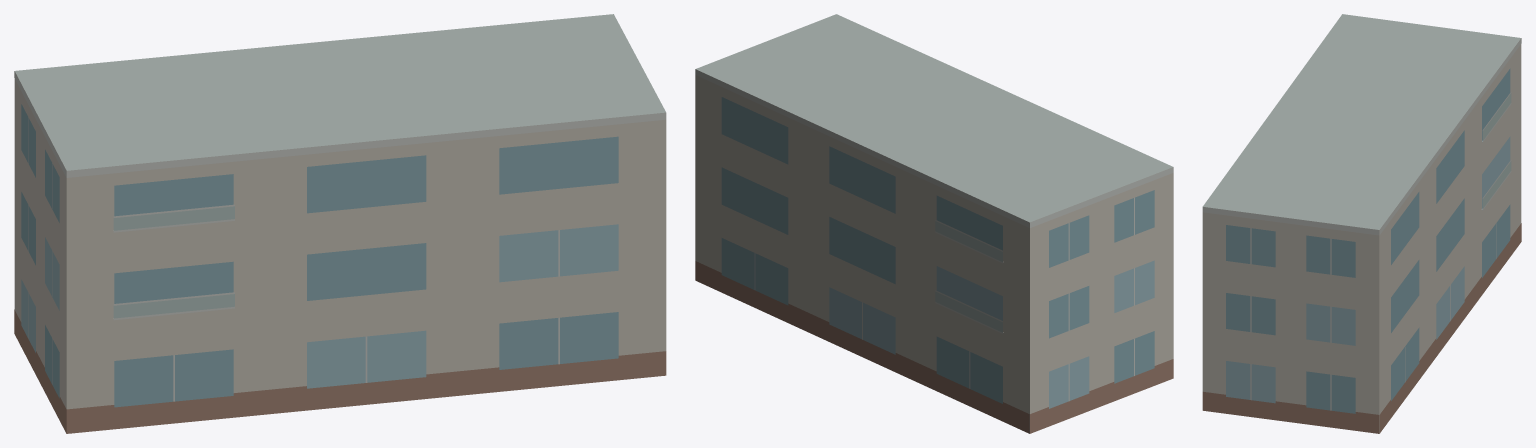
File: survey-upis-32951050.glb
The picture shows the model from 3 angles, left to right: view 1: azimuth 30°, elevation 25°; view 2: azimuth 150°, elevation 25°; view 3: azimuth 270°, elevation 25°; orthographic projection. The views are drawn at different scales.
Parts seen in each view (by area): view 1: survey-upis-32951050.tmp; view 2: survey-upis-32951050.tmp; view 3: survey-upis-32951050.tmp.
Boxes of the visible parts, bbox=[...] form: survey-upis-32951050.tmp: bbox=[14, 14, 666, 433]; survey-upis-32951050.tmp: bbox=[695, 14, 1173, 433]; survey-upis-32951050.tmp: bbox=[1202, 14, 1521, 433].
Size of the model in its own units: 20.41 by 8.98 by 12.74.
